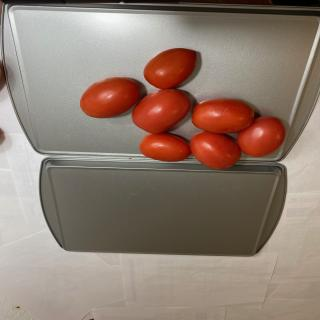Chilli: (80, 47, 286, 170)
Tomato: (131, 88, 191, 134), (80, 77, 140, 118), (192, 98, 254, 134), (144, 48, 198, 89), (190, 131, 242, 170), (237, 116, 286, 157), (140, 133, 192, 162)
